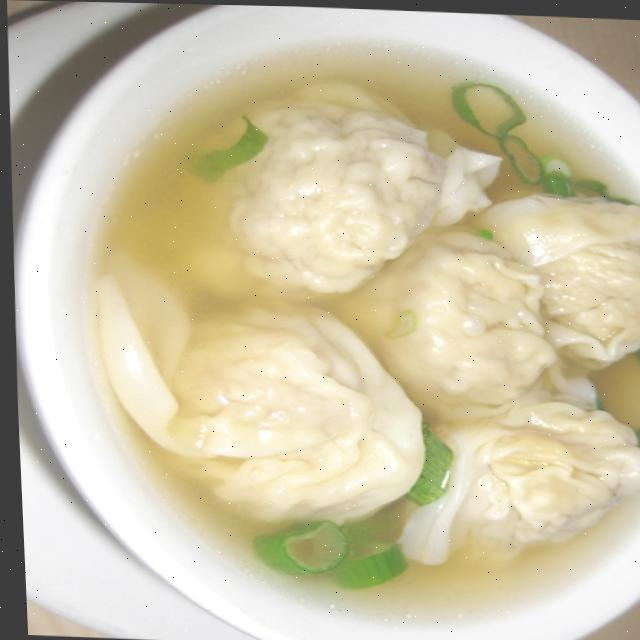汤锅炖物: (65, 56, 640, 606)
